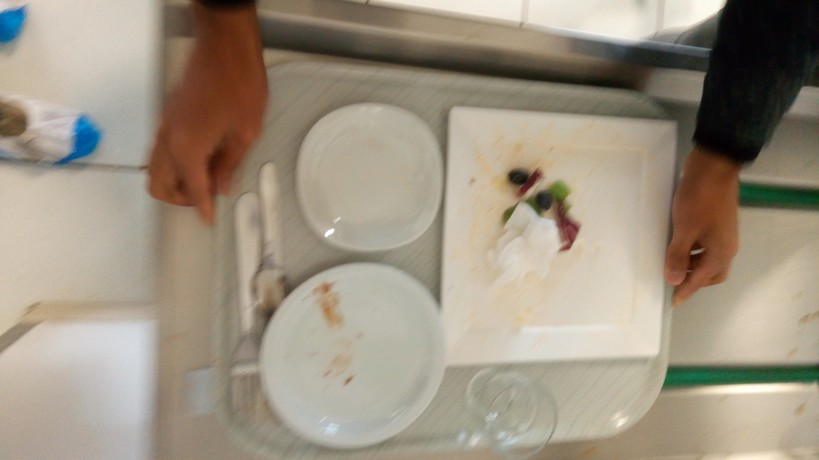orga: (497, 157, 575, 212)
trash: (490, 209, 562, 299)
